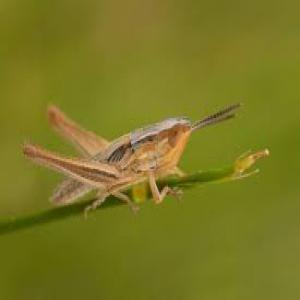locust: (32, 62, 250, 224)
